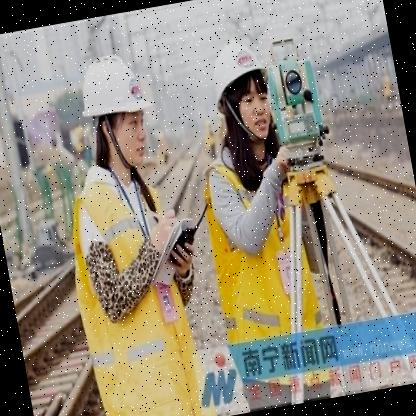capacete: (72, 44, 160, 176), (203, 34, 282, 150)
colete_refletivo: (51, 154, 208, 415), (194, 140, 334, 375)
